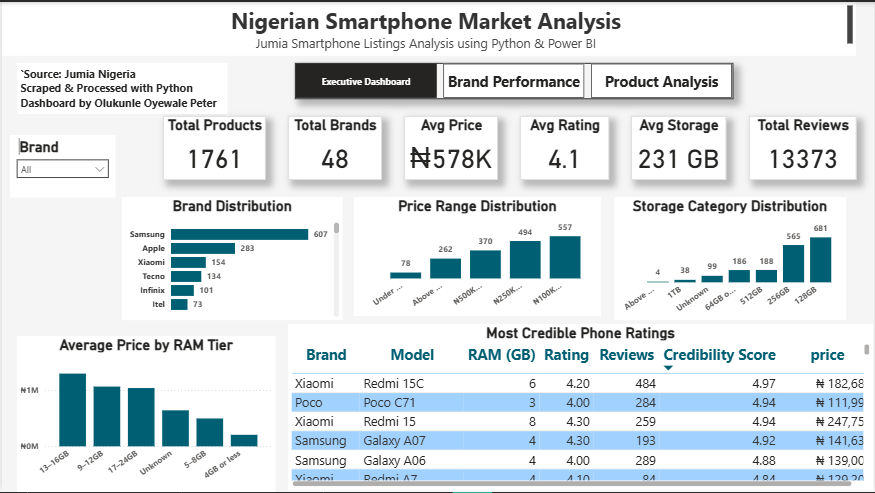

What the dashboard file says about the page in this screenshot:
{"tool":"powerbi","page":{"name":"Executive Dashboard","canvas":[1280,720],"ordinal":0},"visuals":[{"type":"textbox","box":[0,0,1254.9,79.3],"z":0},{"type":"card","title":"Total Products","fields":{"Values":["_Measure.Total Products"]},"box":[236.9,168,151.2,94.1],"z":1000},{"type":"card","title":"Total Brands","fields":{"Values":["_Measure.Total Brands"]},"box":[420.6,168,137.7,94.1],"z":2000},{"type":"card","title":"Avg Price","fields":{"Values":["_Measure.Average Price"]},"box":[590.8,168,138.1,94],"z":3000},{"type":"card","title":"Avg Rating","fields":{"Values":["_Measure.Average Rating"]},"box":[761.5,168,130.8,94],"z":4000},{"type":"card","title":"Avg Storage","fields":{"Values":["_Measure.Average Storage (GB)"]},"box":[924.8,168,139.6,94],"z":5000},{"type":"card","title":"Total Reviews","fields":{"Values":["_Measure.Total Reviews"]},"box":[1096.9,168,157.9,94.1],"z":6000},{"type":"clusteredBarChart","title":"Brand Distribution","fields":{"Category":["Smartphones.Brand"],"Y":["_Measure.Total Products"]},"box":[176.4,287.2,324.2,181.4],"z":7000},{"type":"clusteredColumnChart","title":"Price Range Distribution","fields":{"Category":["Smartphones.Price Range"],"Y":["_Measure.Total Products"]},"box":[517.4,287.2,362.8,174.7],"z":8000},{"type":"tableEx","title":"Most Credible Phone Ratings","fields":{"Values":["Product_variant.Brand","Product_variant.Model","Product_variant.RAM (GB)","Product_variant.Rating","Product_variant.Reviews","_Measure.Credibility Score","Product_variant.price"]},"box":[419.9,473.7,860.1,243.6],"z":9000},{"type":"clusteredColumnChart","title":"Average Price by RAM Tier","fields":{"Category":["Product_variant.RAM Category"],"Y":["_Measure.Average Price"]},"box":[21.8,490.5,379.6,230.1],"z":10000},{"type":"clusteredColumnChart","title":"Storage Category Distribution","fields":{"Category":["Product_variant.Storage Category"],"Y":["_Measure.Total Products"]},"box":[898.7,287.2,341,181.4],"z":11000},{"type":"pageNavigator","box":[430.5,89.6,643.6,52.9],"z":12000},{"type":"slicer","fields":{"Values":["Product_variant.Brand"]},"box":[11.8,194.9,154.5,92.4],"z":13000},{"type":"textbox","box":[22,89.6,308.6,74.9],"z":14000}]}

Visuals, with their boxes in screenshot pixels (x1, y1, x2, y2), scaled from the page's 1280x720 canvas onto the 875x493 screenshot:
textbox: [0,0,858,54]
"Total Products" card: [162,115,265,179]
"Total Brands" card: [288,115,382,179]
"Avg Price" card: [404,115,498,179]
"Avg Rating" card: [521,115,610,179]
"Avg Storage" card: [632,115,728,179]
"Total Reviews" card: [750,115,858,179]
"Brand Distribution" clusteredBarChart: [121,197,342,321]
"Price Range Distribution" clusteredColumnChart: [354,197,602,316]
"Most Credible Phone Ratings" tableEx: [287,324,874,491]
"Average Price by RAM Tier" clusteredColumnChart: [15,336,274,492]
"Storage Category Distribution" clusteredColumnChart: [614,197,847,321]
pageNavigator: [294,61,734,98]
slicer - Product_variant.Brand: [8,133,114,197]
textbox: [15,61,226,113]
